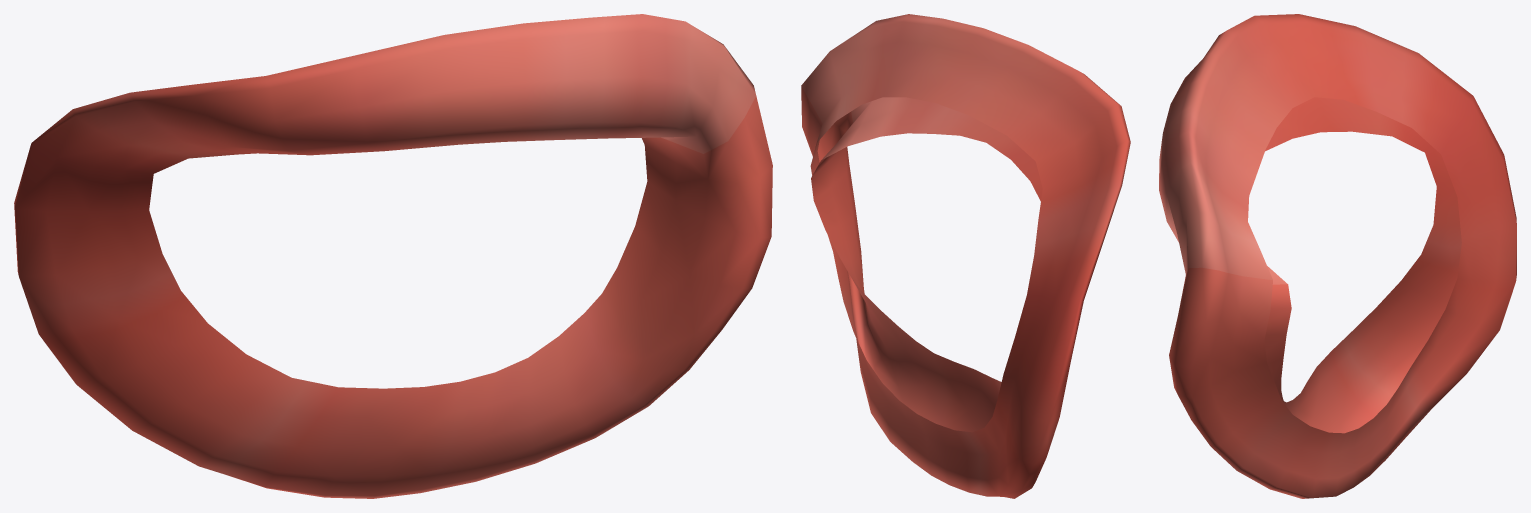
File: Orbicularis_Oculi_Orbital_Muscle_Right.obj
3 renders of one model, left to right at view 1: azimuth 30°, elevation 25°; view 2: azimuth 150°, elevation 25°; view 3: azimuth 270°, elevation 25°, orthographic. The views are drawn at different scales.
Visible parts, largest first — view 1: Orbicularis_Oculi_Muscle_Right:Orbicularis_Oculi_Muscle_Right_Me; view 2: Orbicularis_Oculi_Muscle_Right:Orbicularis_Oculi_Muscle_Right_Me; view 3: Orbicularis_Oculi_Muscle_Right:Orbicularis_Oculi_Muscle_Right_Me.
Boxes of the visible parts, bbox=[...] form: Orbicularis_Oculi_Muscle_Right:Orbicularis_Oculi_Muscle_Right_Me: bbox=[14, 14, 772, 498]; Orbicularis_Oculi_Muscle_Right:Orbicularis_Oculi_Muscle_Right_Me: bbox=[801, 14, 1130, 498]; Orbicularis_Oculi_Muscle_Right:Orbicularis_Oculi_Muscle_Right_Me: bbox=[1159, 14, 1516, 498].
Bounding box in the file's own units: 0.7342 × 0.6702 × 0.5255.
